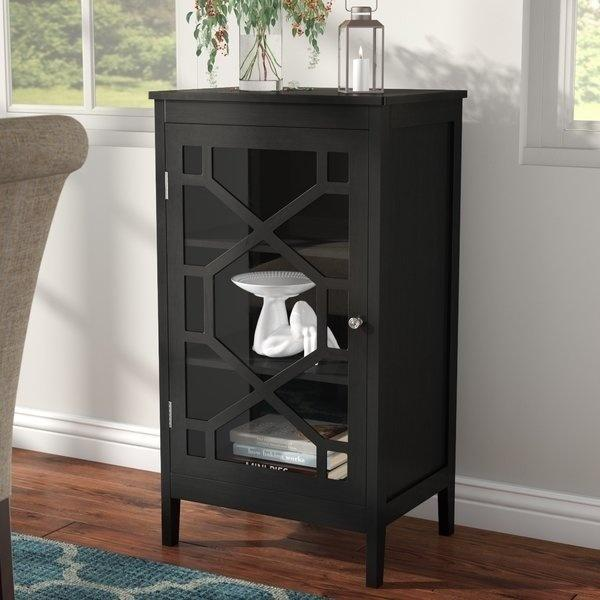cabinet_door: (165, 126, 364, 484)
handle: (348, 312, 364, 337)
